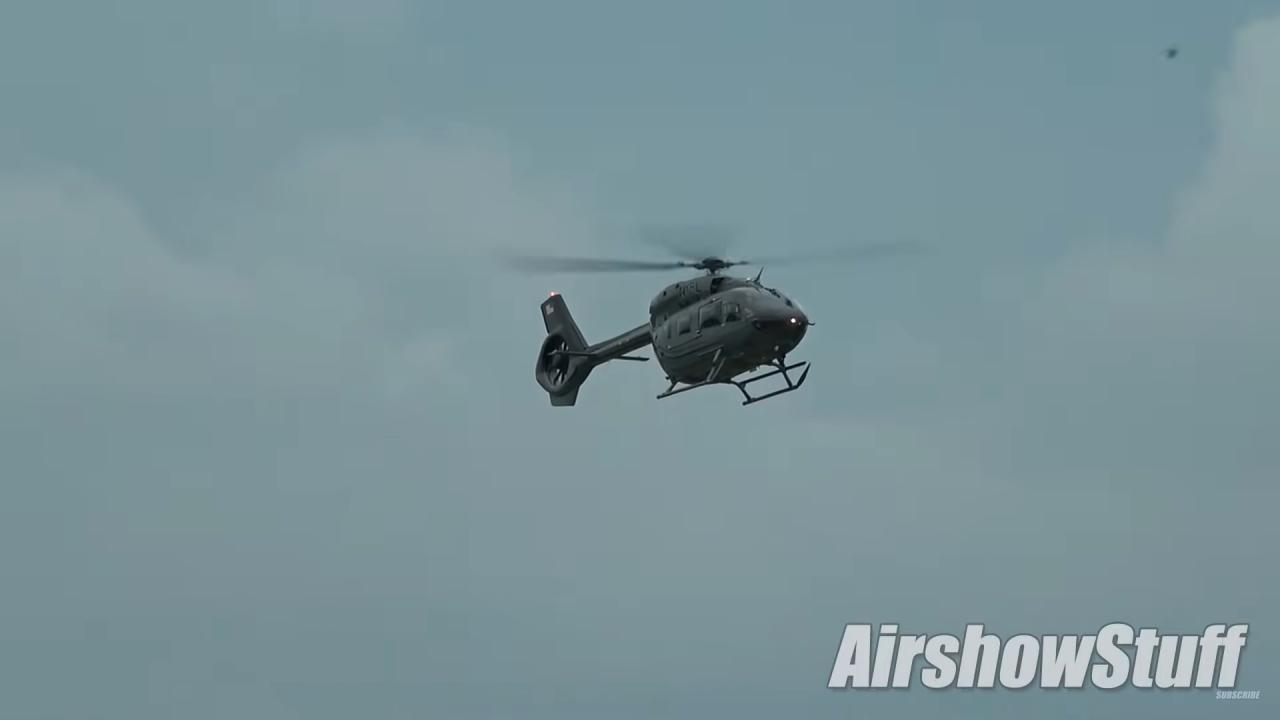Helicopter: (478, 176, 946, 441)
